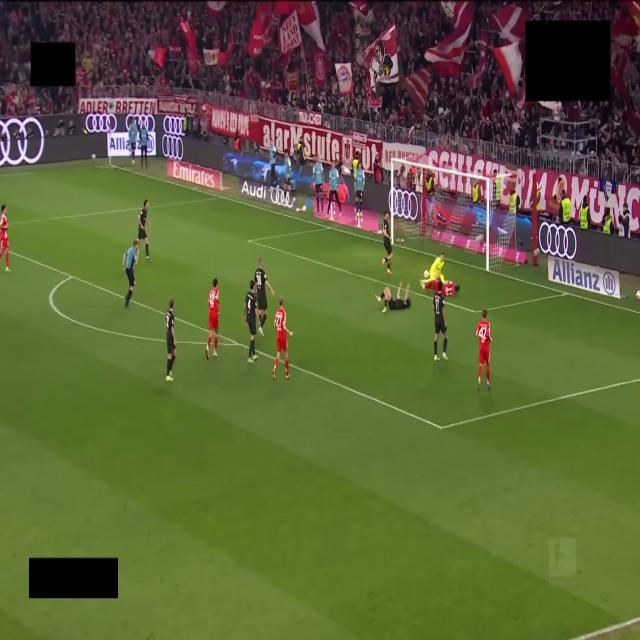ball: (424, 270, 429, 278)
player: (273, 297, 292, 380), (254, 257, 274, 335), (475, 309, 491, 389), (243, 280, 257, 363), (433, 281, 447, 360), (376, 283, 410, 312), (206, 279, 218, 359), (420, 252, 444, 290), (138, 200, 151, 262), (166, 298, 175, 382), (0, 205, 10, 272), (382, 210, 392, 274), (443, 281, 459, 296)
referee: (123, 240, 138, 307)
